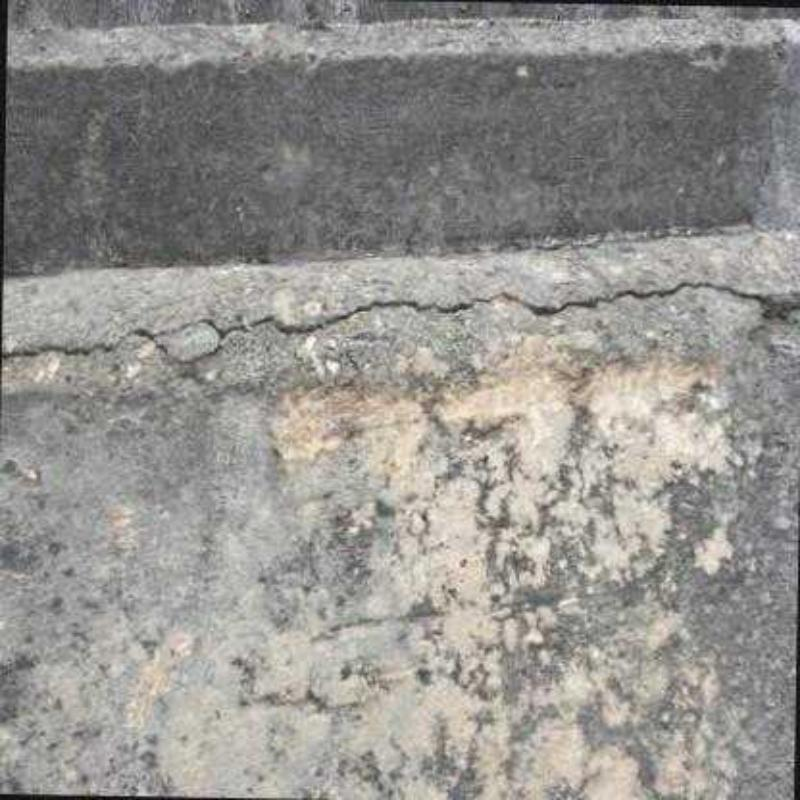crack: (1, 273, 798, 366), (156, 335, 223, 363)
